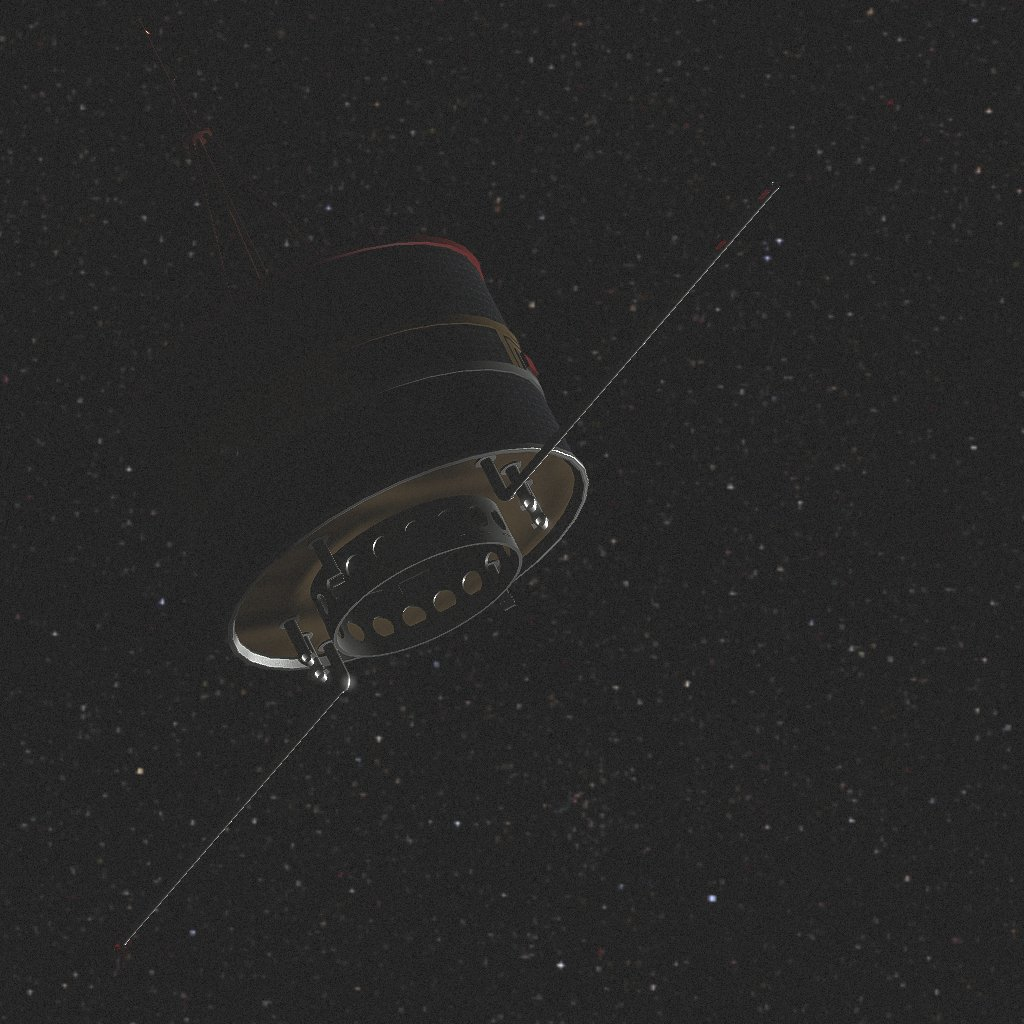double_star: (51, 103, 759, 972)
